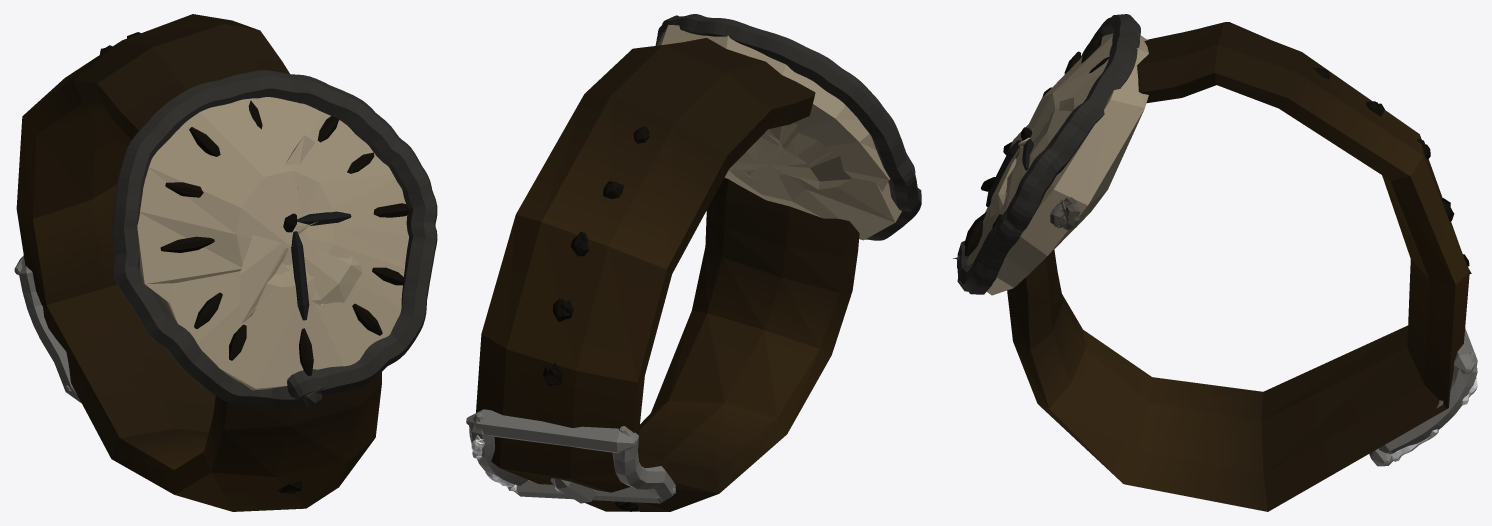
File: Watch.fbx
3 renders of one model, left to right at view 1: azimuth 30°, elevation 25°; view 2: azimuth 150°, elevation 25°; view 3: azimuth 270°, elevation 25°, orthographic. The views are drawn at different scales.
Parts seen in each view (by area): view 1: Watch1; view 2: Watch1; view 3: Watch1.
Boxes of the visible parts, <box> form: Watch1: <box>14,14,437,511</box>; Watch1: <box>466,14,921,511</box>; Watch1: <box>953,14,1477,511</box>.
Size of the model in its own units: 0.1536 by 0.2274 by 0.2438.
